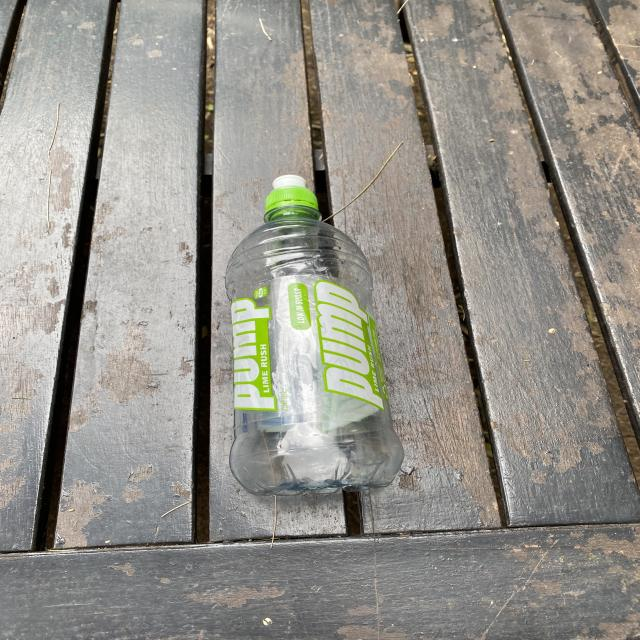bottle: (226, 174, 403, 495)
